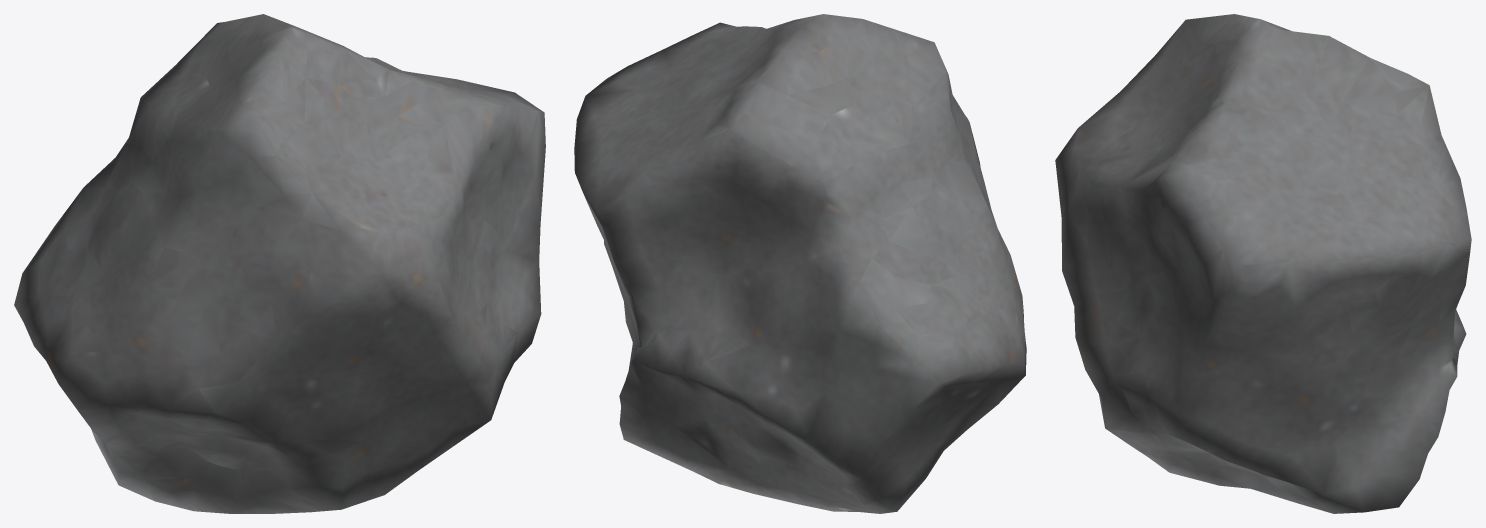
File: rock-7.obj
The picture shows the model from 3 angles, left to right: view 1: azimuth 30°, elevation 25°; view 2: azimuth 150°, elevation 25°; view 3: azimuth 270°, elevation 25°; orthographic projection. The views are drawn at different scales.
Size of the model in its own units: 0.4414 by 0.4504 by 0.3526.
Materials: 1 (1 with a texture image).
